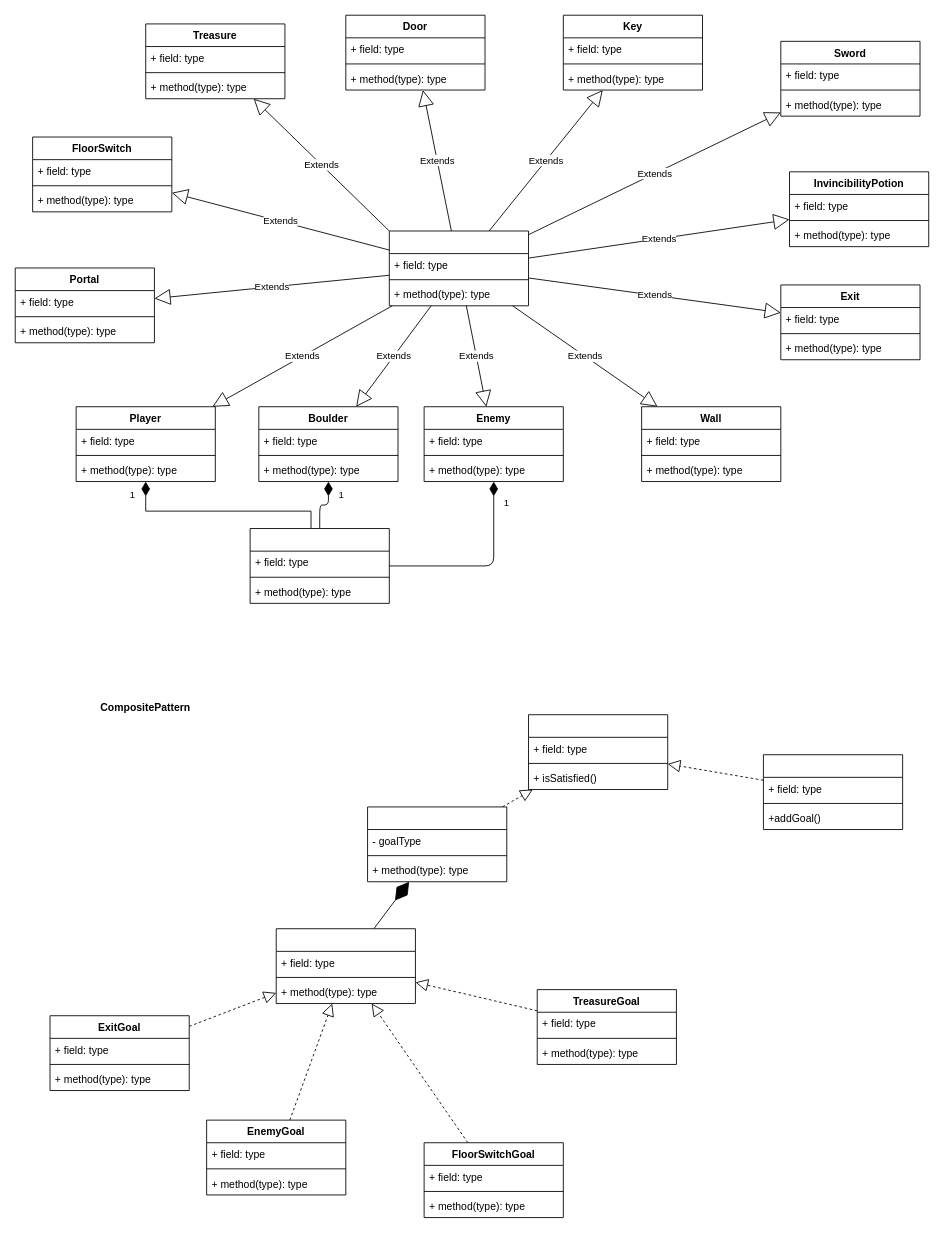
Image size: 944x1235. Some labels were removed from this diagram. The box of each missing label's shape, as (x1, y1, x2, y2) in pixels:
CompositeGoal: (763, 754, 903, 830)
Entity: (388, 230, 529, 306)
Goal: (528, 714, 668, 790)
GoalType: (275, 928, 415, 1004)
LeafGoal: (367, 806, 507, 882)
Movement: (249, 528, 389, 603)
